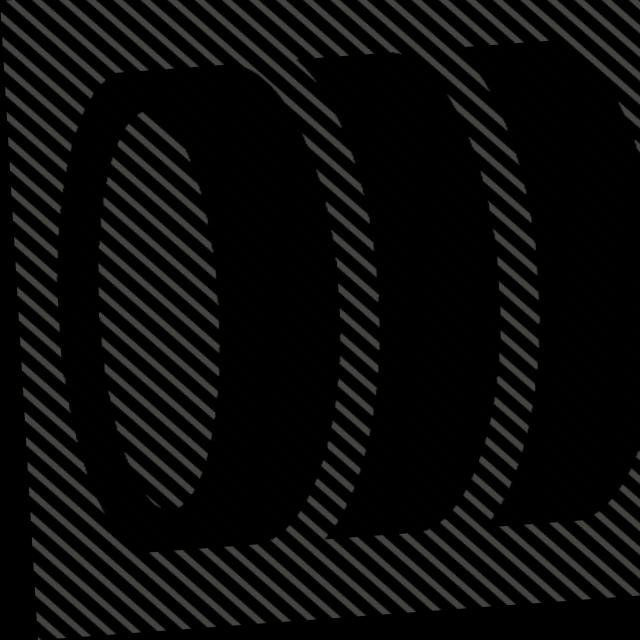Database: (6, 0, 640, 633)
